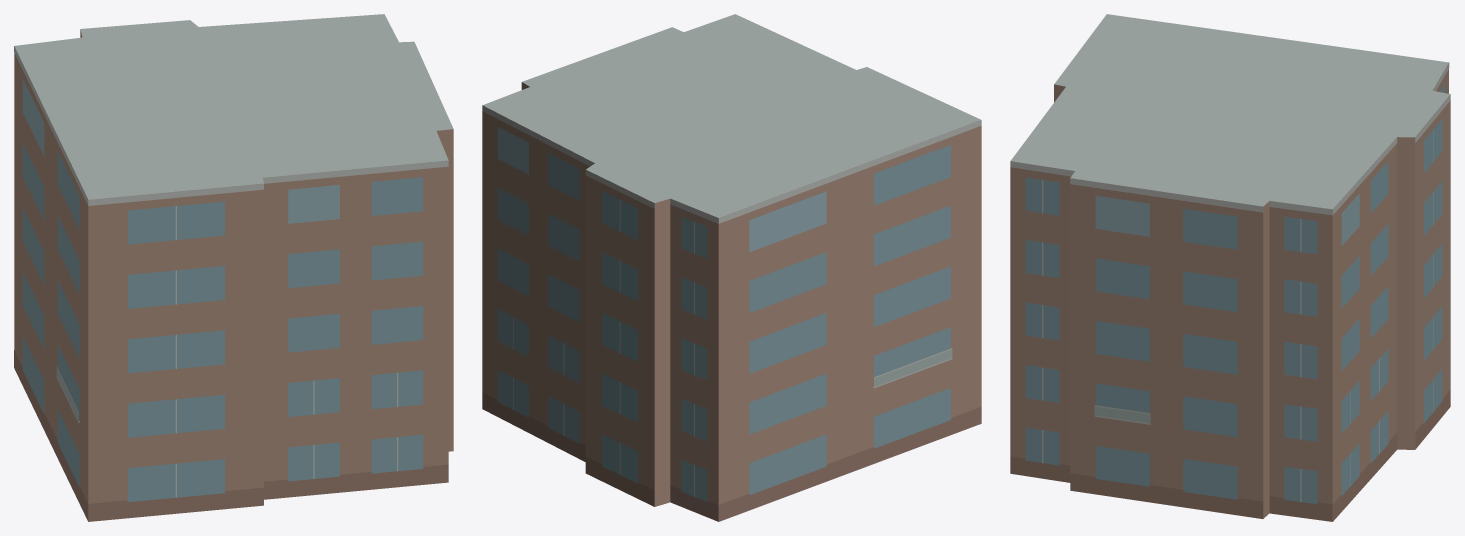
The model's file is survey-upis-32577013.glb.
3 renders of one model, left to right at view 1: azimuth 30°, elevation 25°; view 2: azimuth 150°, elevation 25°; view 3: azimuth 270°, elevation 25°, orthographic. The views are drawn at different scales.
Parts seen in each view (by area): view 1: survey-upis-32577013.tmp; view 2: survey-upis-32577013.tmp; view 3: survey-upis-32577013.tmp.
Part boxes in pixels (x1,y1,x2,y2): survey-upis-32577013.tmp: [14, 14, 453, 521]; survey-upis-32577013.tmp: [482, 14, 981, 521]; survey-upis-32577013.tmp: [1010, 14, 1450, 521].
Size of the model in its own units: 17.04 by 12.7 by 16.22.
